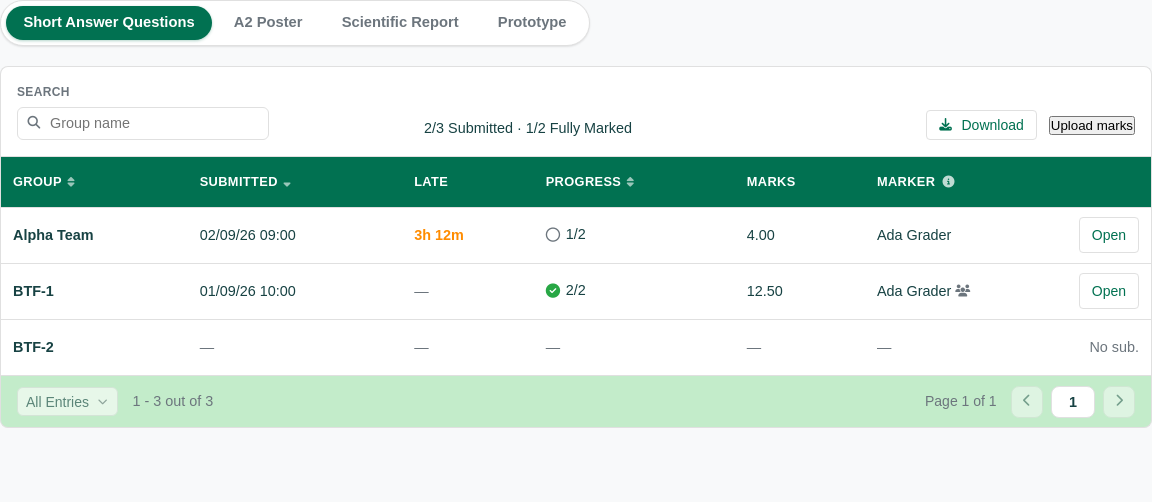
Test case: exports and uploads › an applied upload names overwritten and new groups in a sentence and refreshes the table
This screenshot has width=1152, height=502.
What coordinates should you click on to do the following:
click the button with class "bulk-stub"
I would click on:
 (1092, 125)
Its box is 1049,116 -> 1135,135.
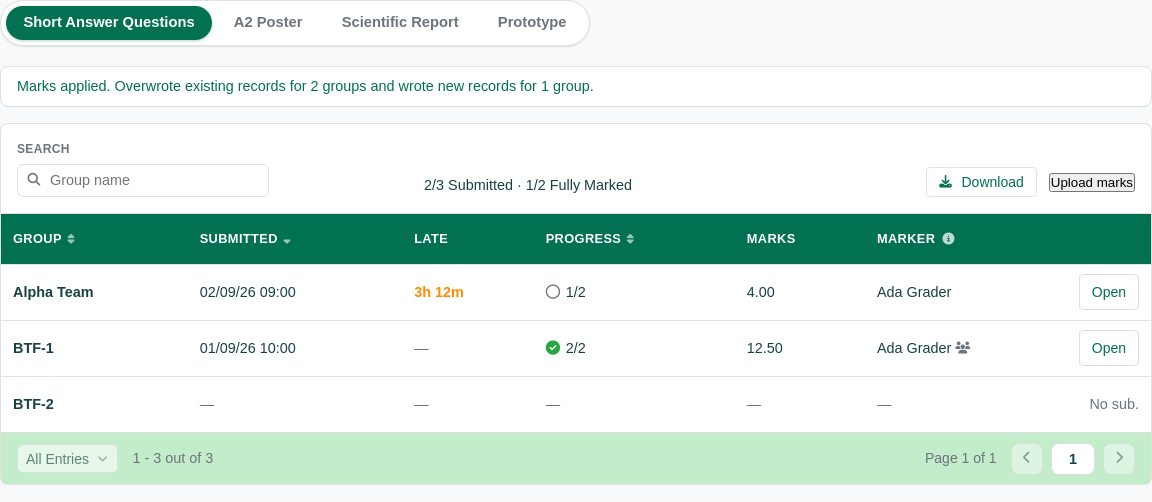
expect the text with class "component-table__banner--ok" shows "Marks applied. Overwrote existing records for 2 groups and wrote new records for 1 group.": met, box 17,78 -> 594,94
